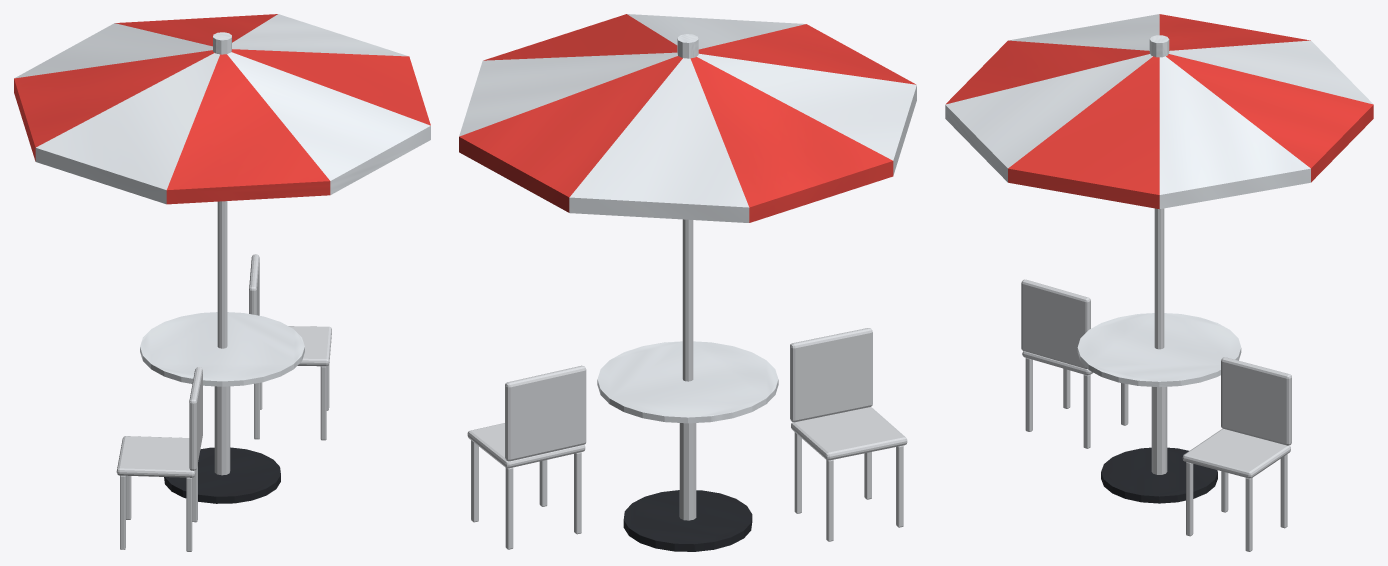
Rendered from SW_Parasol.glb.
3 views of the same model, side by side, from view 1: azimuth 30°, elevation 25°; view 2: azimuth 150°, elevation 25°; view 3: azimuth 270°, elevation 25° (orthographic). The views are drawn at different scales.
Parts seen in each view (by area): view 1: Parasol; view 2: Parasol; view 3: Parasol.
Part boxes in pixels (<box>): Parasol: <box>14,14,430,551</box>; Parasol: <box>459,14,916,551</box>; Parasol: <box>945,14,1373,551</box>.
Bounding box in the file's own units: 2.2 × 2.49 × 2.2.
Materials: 2 (1 with a texture image).
